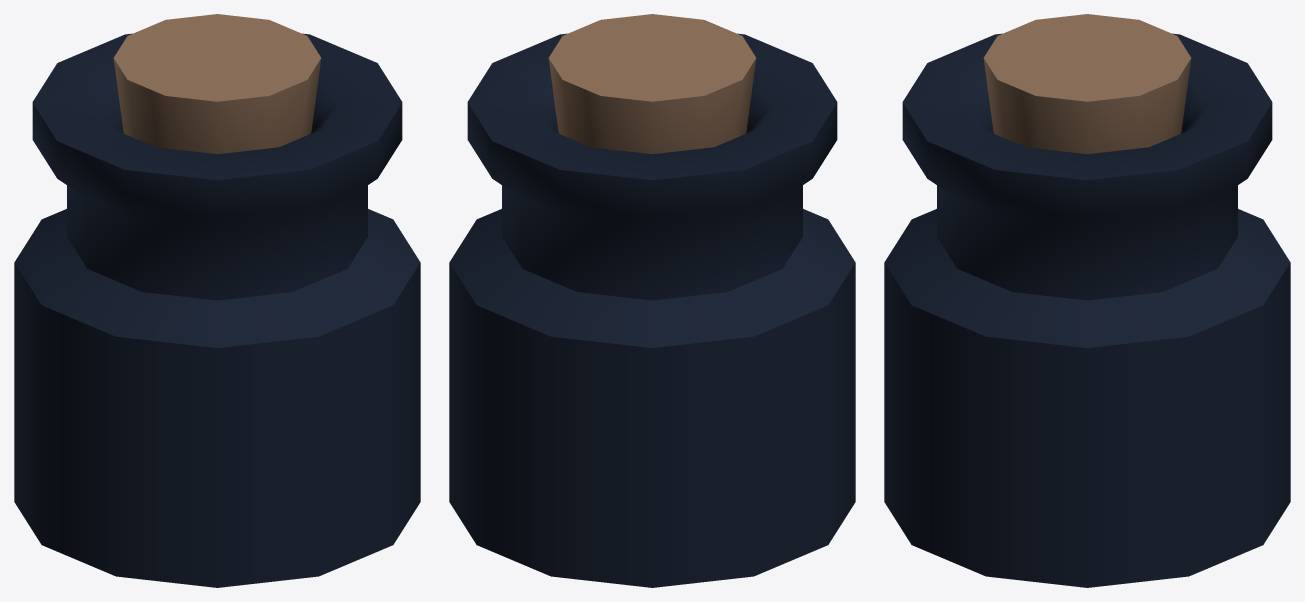
3 renders of one model, left to right at view 1: azimuth 30°, elevation 25°; view 2: azimuth 150°, elevation 25°; view 3: azimuth 270°, elevation 25°, orthographic.
Visible parts, largest first — view 1: base.472; view 2: base.472; view 3: base.472.
Part boxes in pixels (left/top/right/bottom): base.472: left=14, top=14, right=420, bottom=587; base.472: left=449, top=14, right=855, bottom=587; base.472: left=884, top=14, right=1290, bottom=587.
Size of the model in its own units: 0.4142 by 0.5 by 0.4142.
